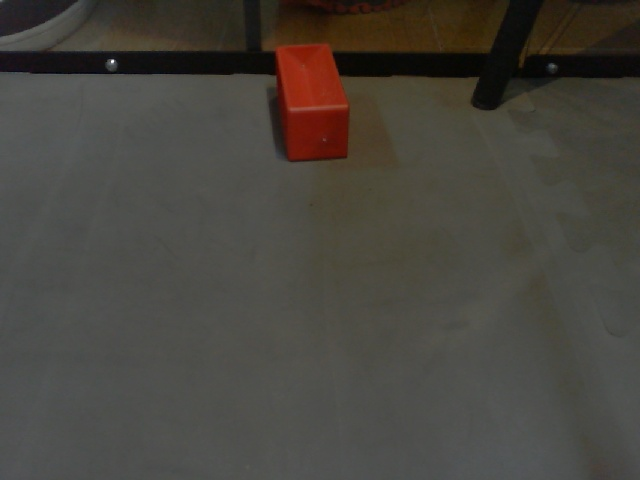RedSample: (271, 39, 354, 163)
